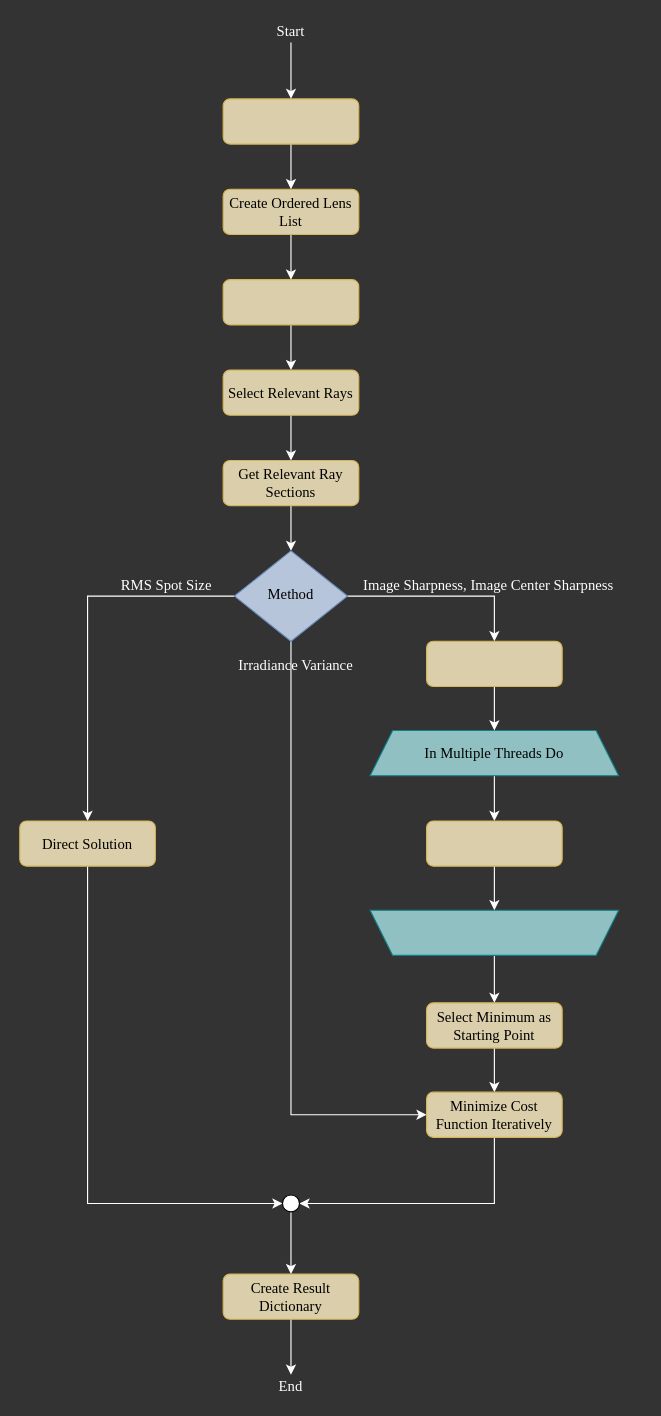
This 661x1416 diagram has some shape labels left out. Here are the shapes that lost their labels. From the top down, the box of each, then its label:
(222, 98, 359, 144): Check Function Parameters
(222, 279, 359, 325): Calculate Search Range
(425, 640, 562, 686): Create Search Range
(425, 820, 562, 866): Calculate Cost Function Values
